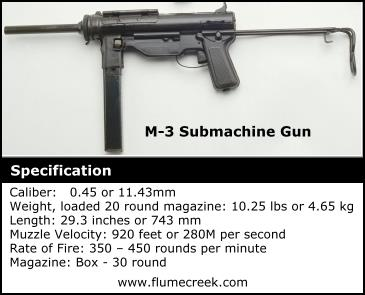rifle: (4, 2, 354, 111)
